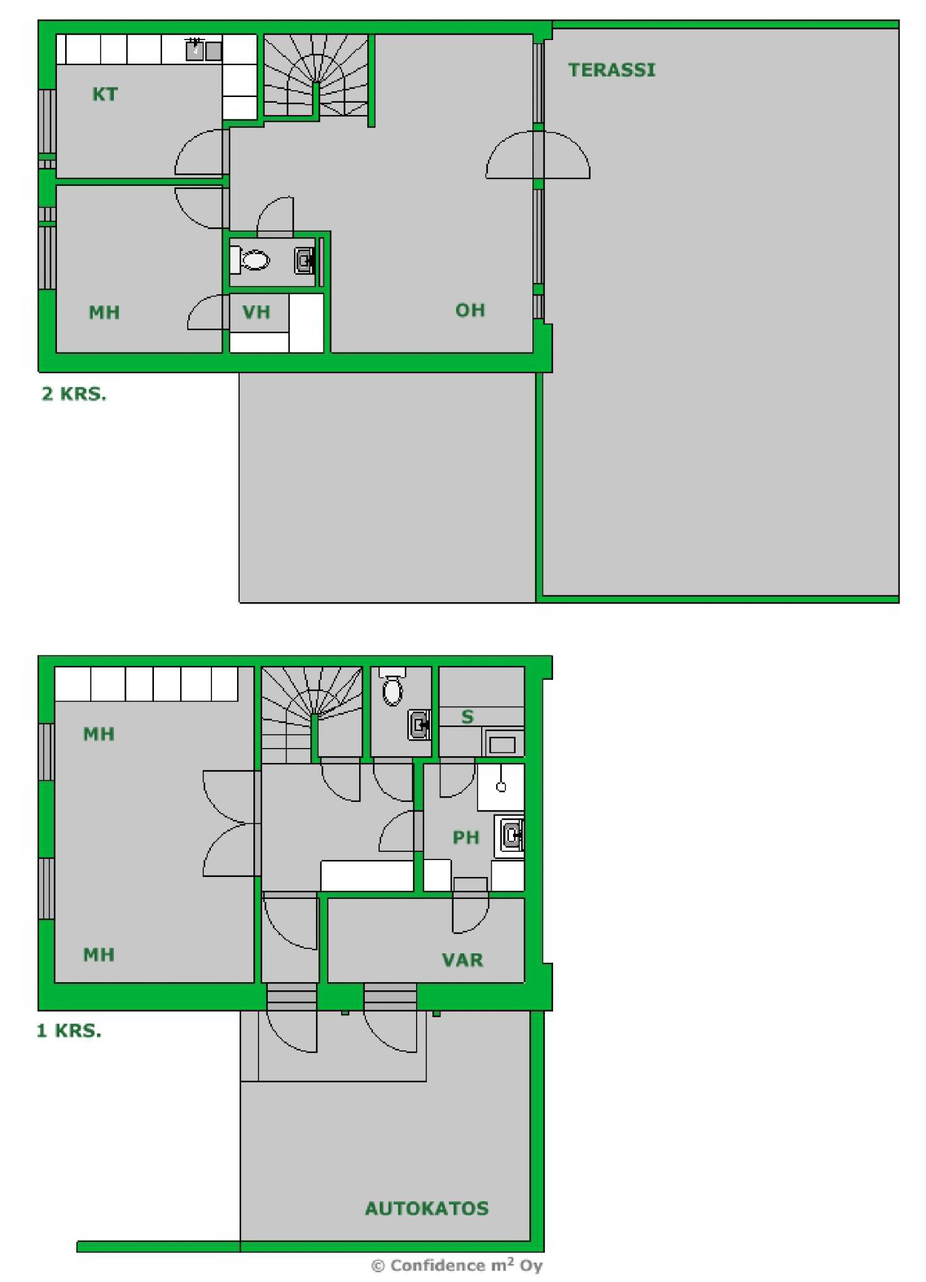door: (199, 768, 270, 880), (472, 128, 593, 188), (355, 991, 416, 1059), (258, 895, 324, 956), (265, 991, 320, 1057), (171, 185, 239, 230), (452, 879, 500, 937), (319, 744, 365, 802), (367, 813, 425, 847), (171, 134, 227, 169), (369, 759, 418, 798), (181, 297, 225, 335), (435, 758, 475, 797), (252, 196, 293, 228)
window: (527, 185, 552, 314), (528, 46, 556, 126), (33, 89, 61, 152), (38, 213, 57, 289), (37, 854, 56, 921), (37, 723, 57, 776)
zone: (547, 31, 897, 596), (225, 36, 530, 352), (54, 665, 256, 982), (245, 381, 535, 599), (244, 1013, 525, 1237), (54, 675, 249, 978), (49, 180, 225, 348), (53, 25, 222, 173), (267, 762, 414, 888), (325, 896, 524, 984), (223, 235, 324, 350), (430, 767, 524, 889), (261, 668, 361, 755), (441, 667, 523, 756), (374, 663, 433, 756), (270, 891, 315, 984)
